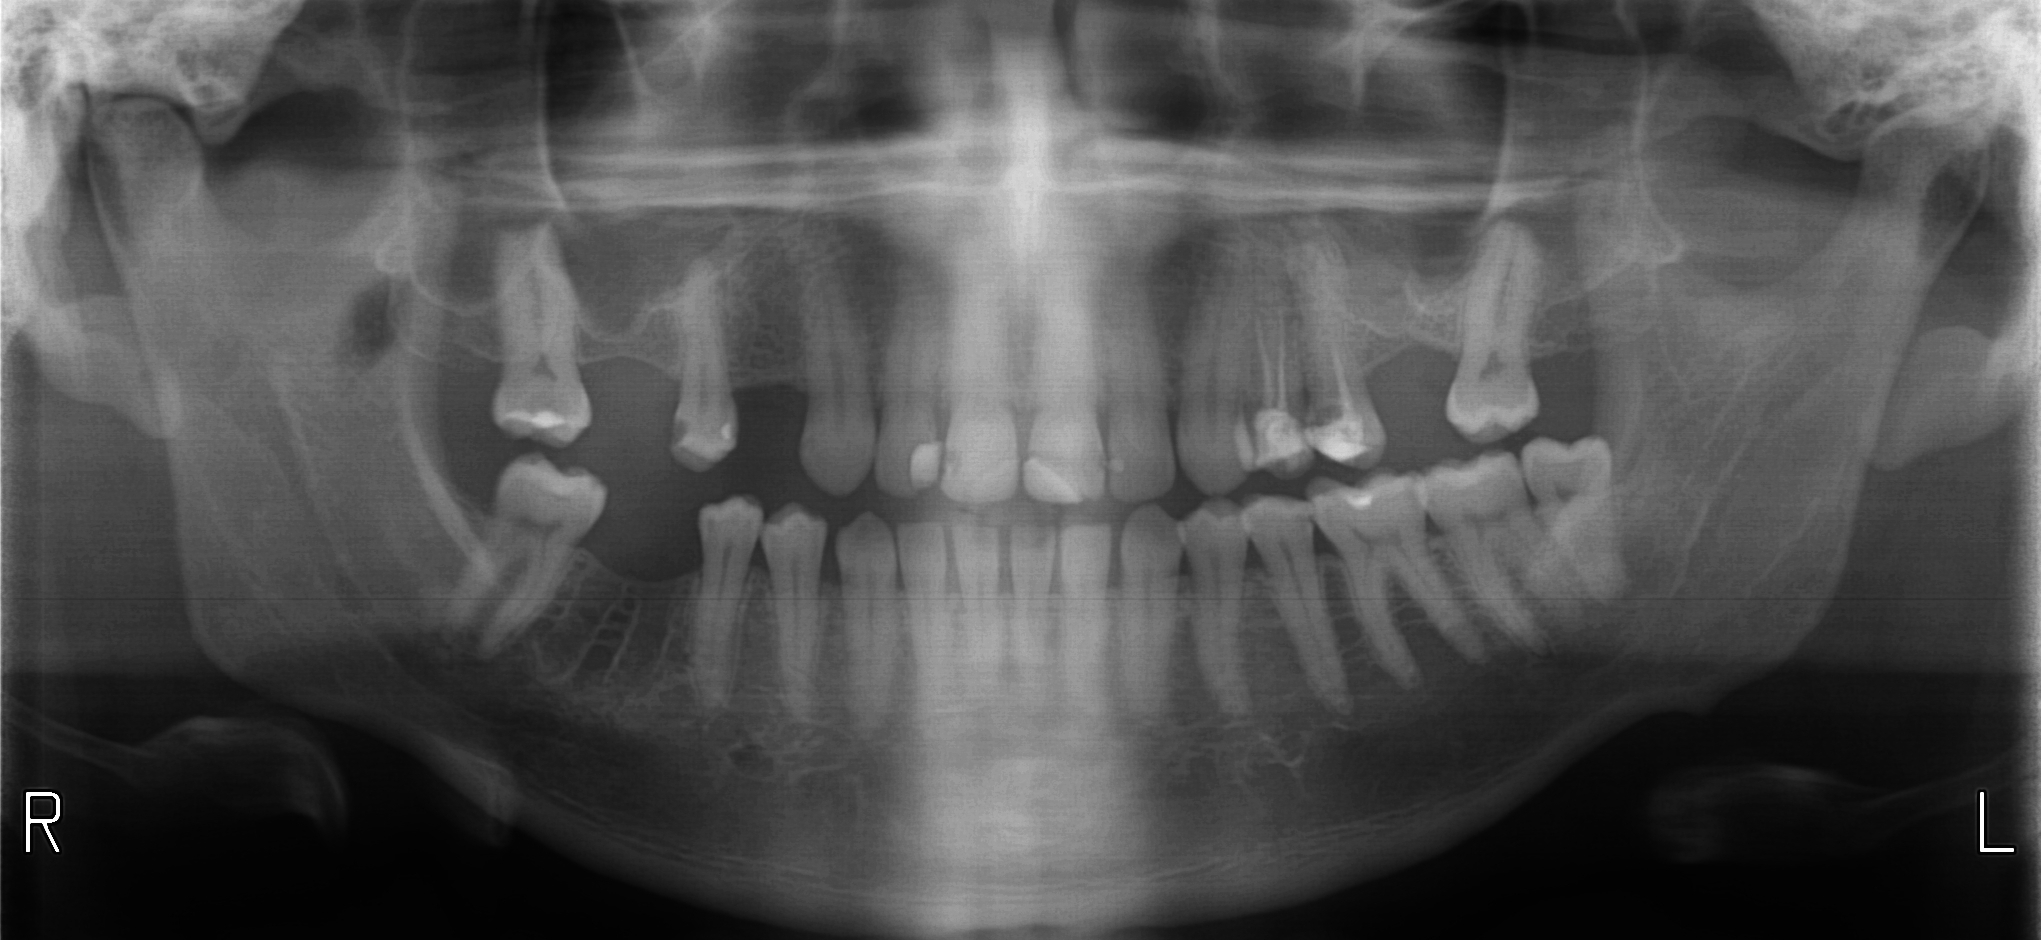cavity: (1309, 404, 1341, 423), (670, 419, 686, 445)
